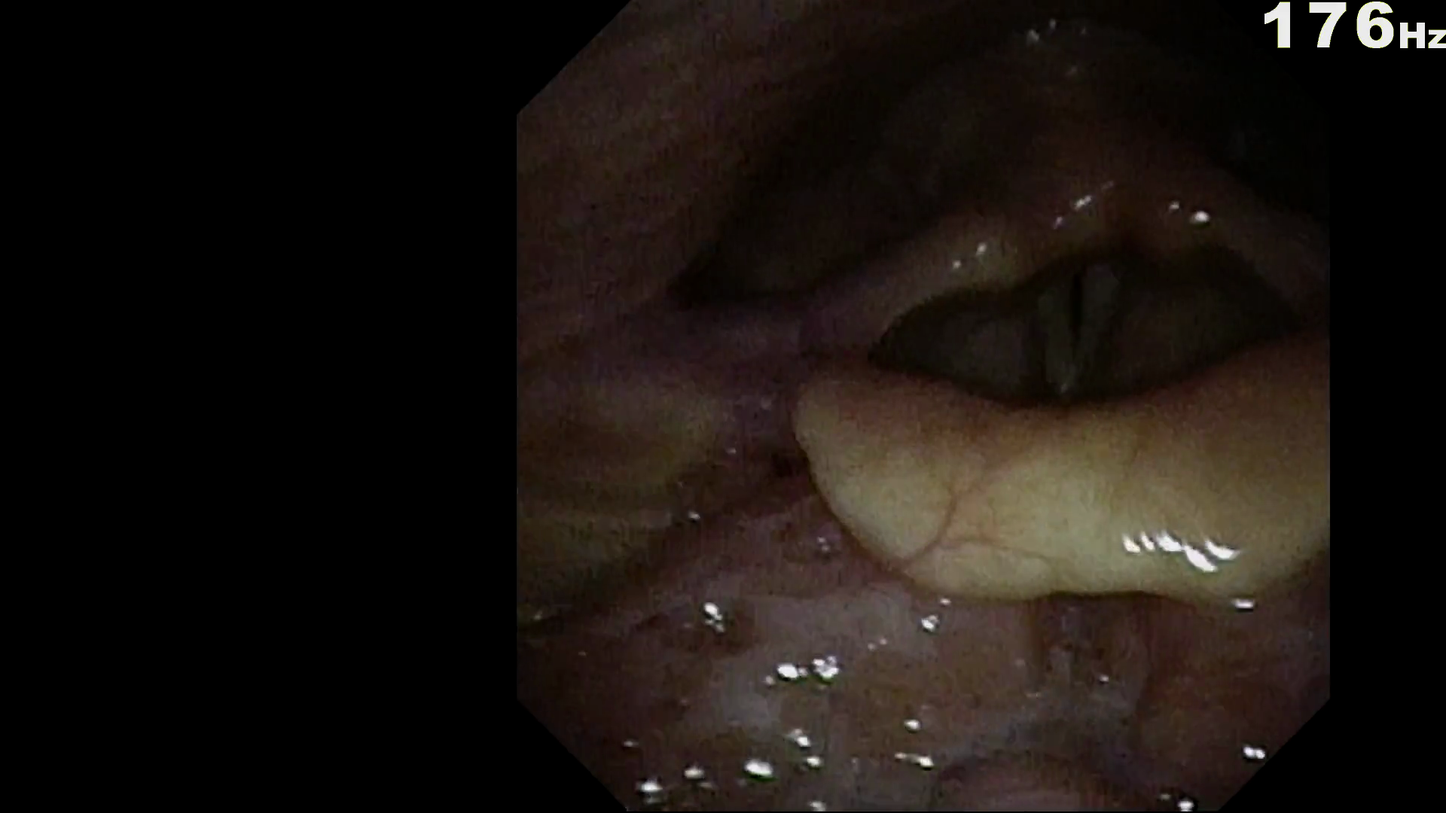epiglottis: (774, 356, 1310, 615)
trachea: (1000, 262, 1146, 417)
